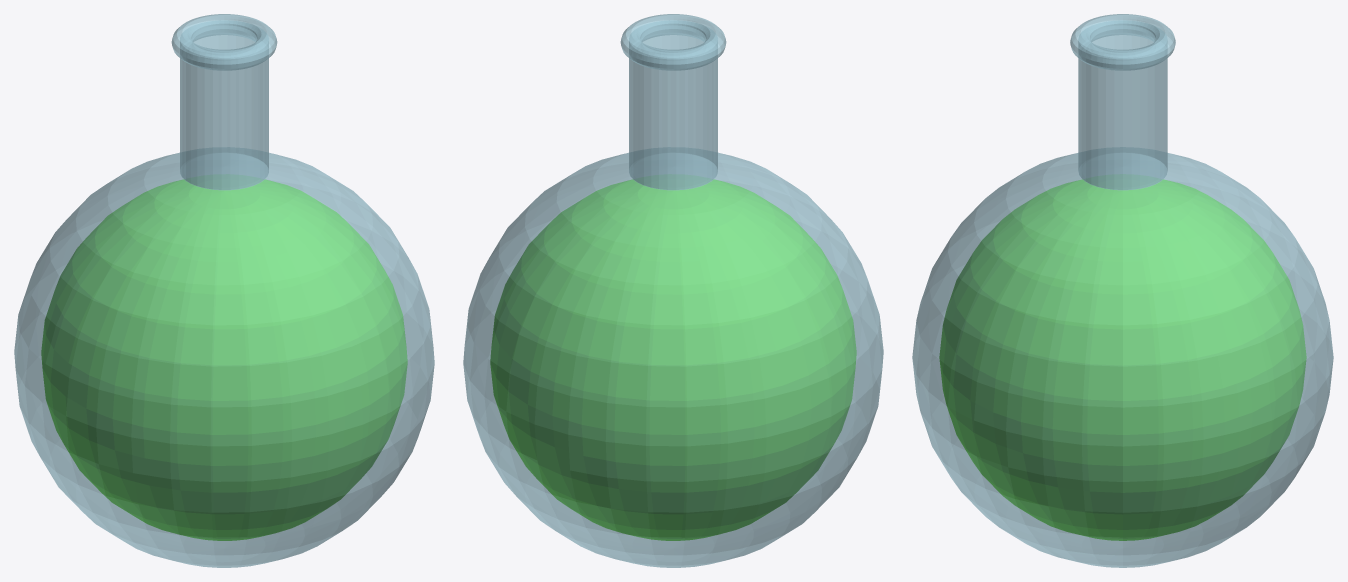
Rendered from poison_flask.glb.
The picture shows the model from 3 angles, left to right: view 1: azimuth 30°, elevation 25°; view 2: azimuth 150°, elevation 25°; view 3: azimuth 270°, elevation 25°; orthographic projection.
Parts seen in each view (by area): view 1: Sphere.001, Sphere, Cylinder, Torus; view 2: Sphere.001, Sphere, Cylinder, Torus; view 3: Sphere.001, Sphere, Cylinder, Torus.
Boxes of the visible parts, left/top/right/bottom form: Sphere.001: left=14, top=147, right=434, bottom=567; Sphere: left=41, top=179, right=407, bottom=540; Cylinder: left=180, top=20, right=268, bottom=189; Torus: left=171, top=14, right=277, bottom=70; Sphere.001: left=463, top=147, right=883, bottom=567; Sphere: left=490, top=179, right=856, bottom=540; Cylinder: left=629, top=20, right=717, bottom=189; Torus: left=620, top=14, right=726, bottom=70; Sphere.001: left=912, top=147, right=1333, bottom=567; Sphere: left=939, top=179, right=1306, bottom=540; Cylinder: left=1078, top=20, right=1167, bottom=189; Torus: left=1070, top=14, right=1175, bottom=70.
Bounding box in the file's own units: 0.2815 × 0.3801 × 0.2815.
